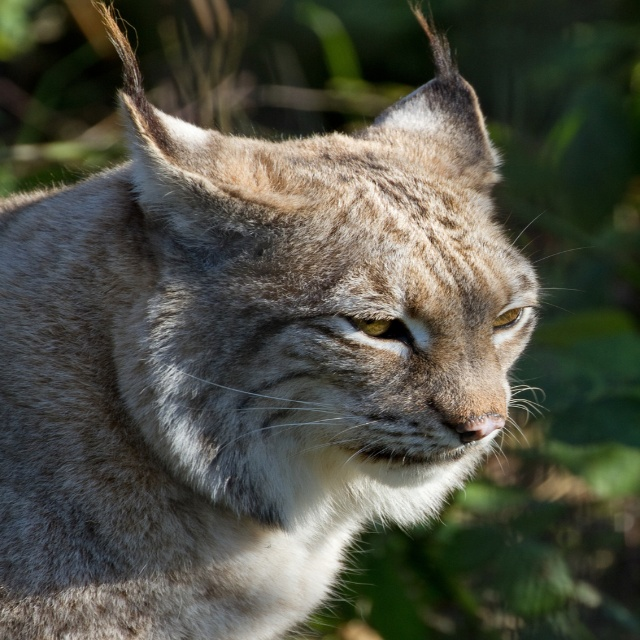Lynx: (0, 0, 595, 640)
